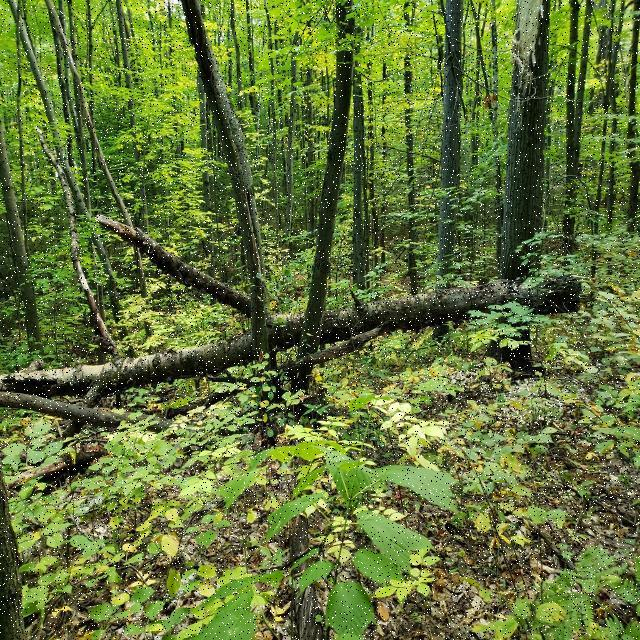fallen_object: (0, 195, 602, 416), (1, 307, 393, 495)
